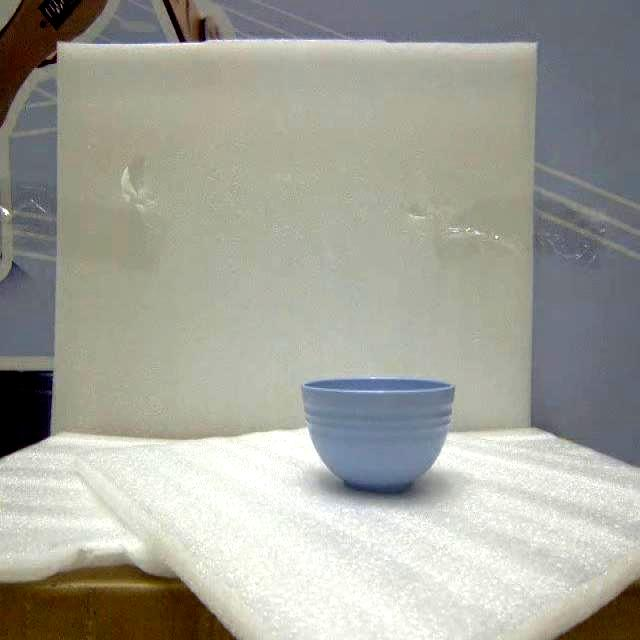Bowl: (302, 378, 453, 491)
